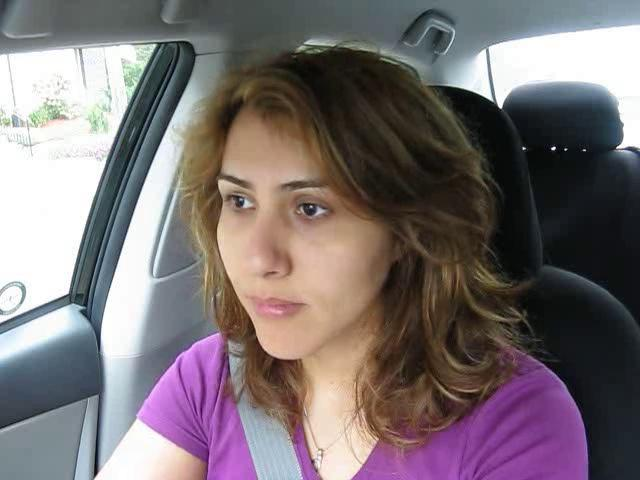no_yawn: (229, 283, 317, 330)
open_eyeL: (214, 182, 265, 221)
open_eyeR: (282, 188, 351, 230)
